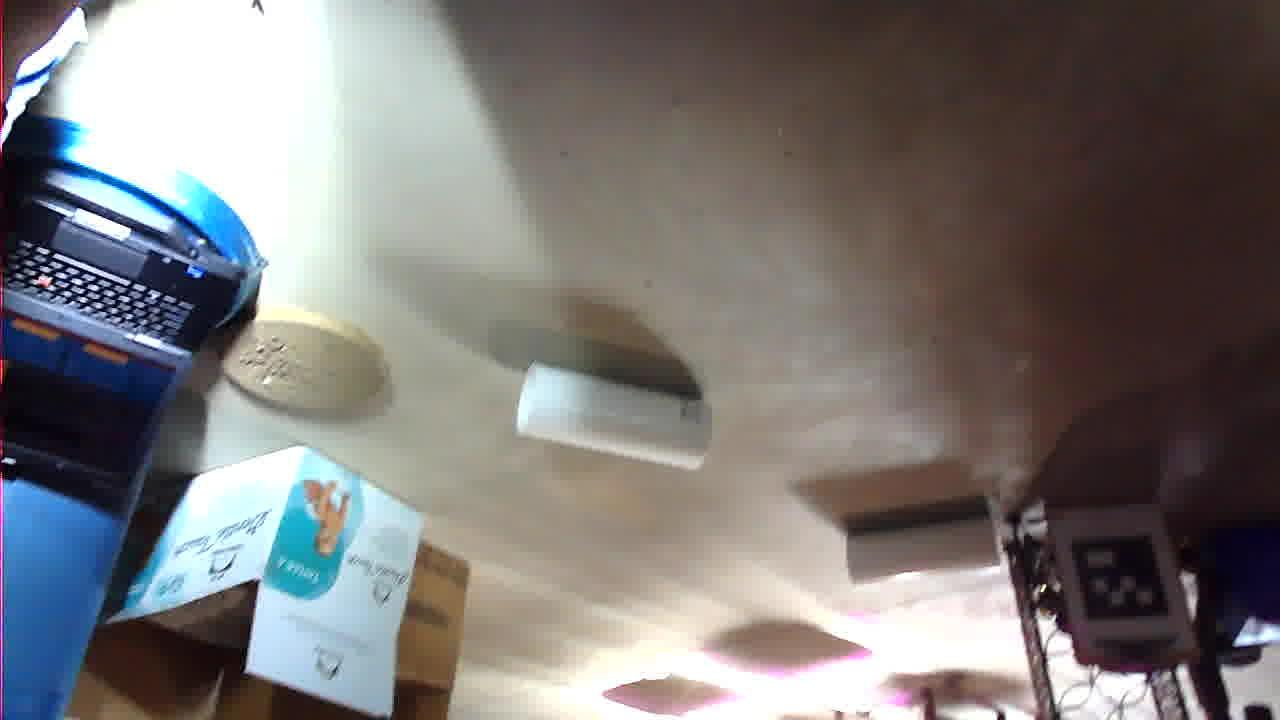coral: (570, 251, 763, 357), (280, 131, 435, 203)
